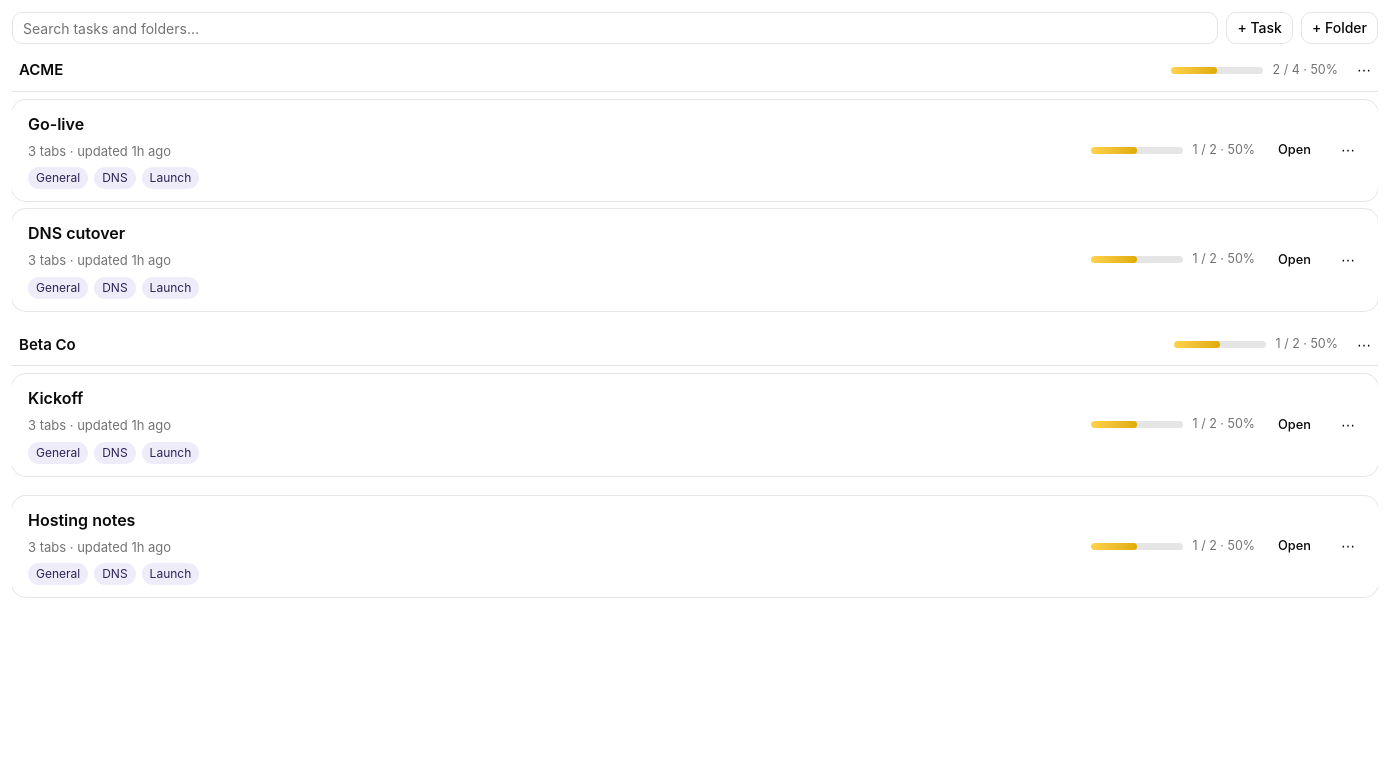
Test: a task’s options › says why a rename was refused, after the field it was typed in has gone
Click the button named "Task options".
click(1348, 150)  # box [1334,136,1362,164]
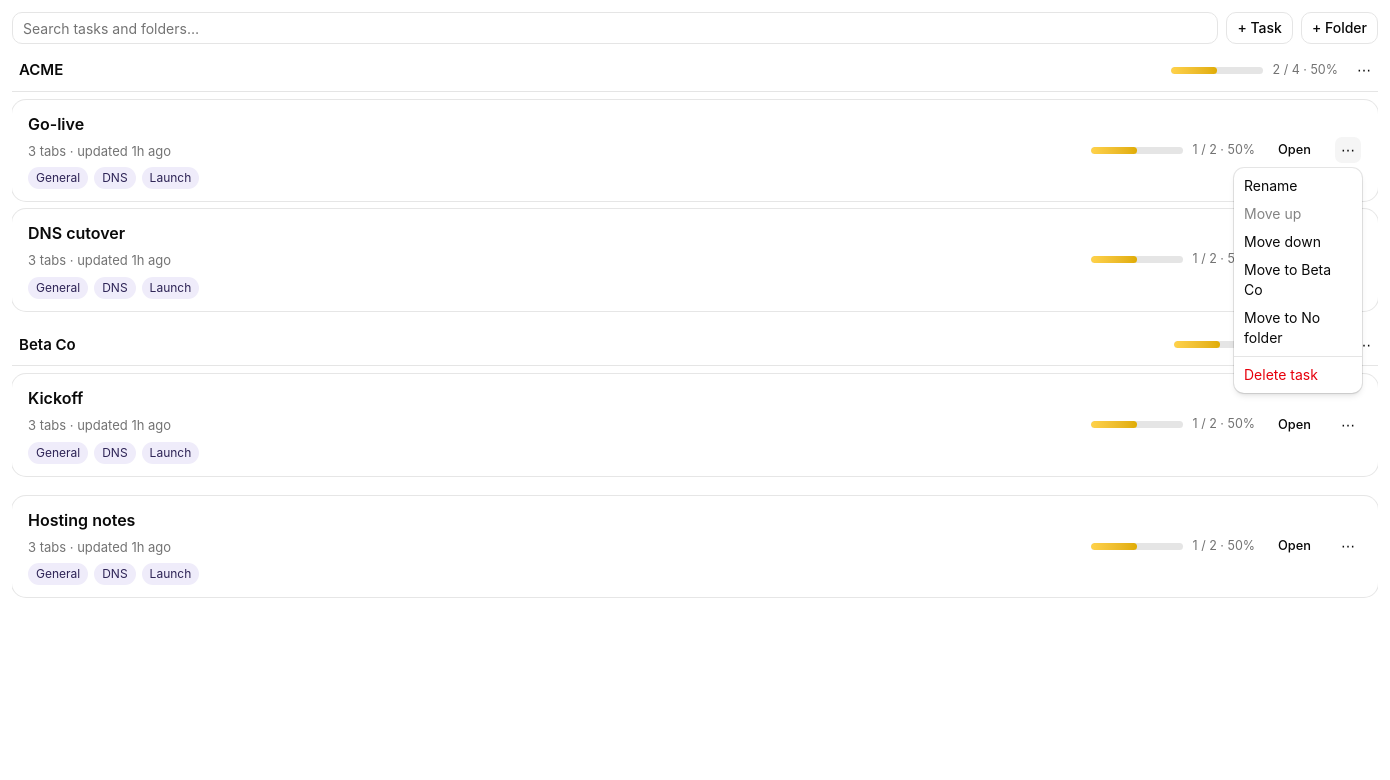
Click the menu item "Rename".
click(1271, 186)  # box [1244,177,1298,194]
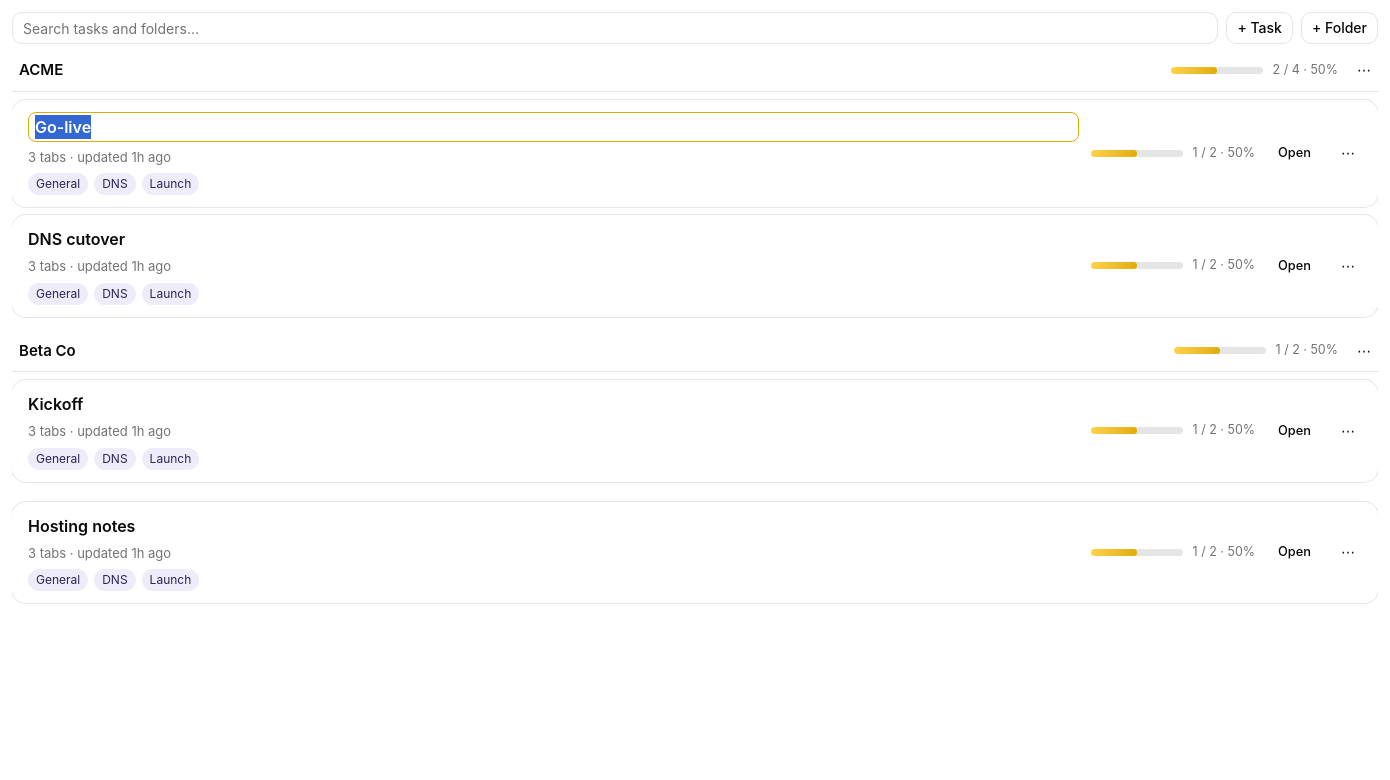
Type " now" into the field named "Task name".
click(553, 126); type(" now")  # box [28,112,1079,142]
Then press Enter
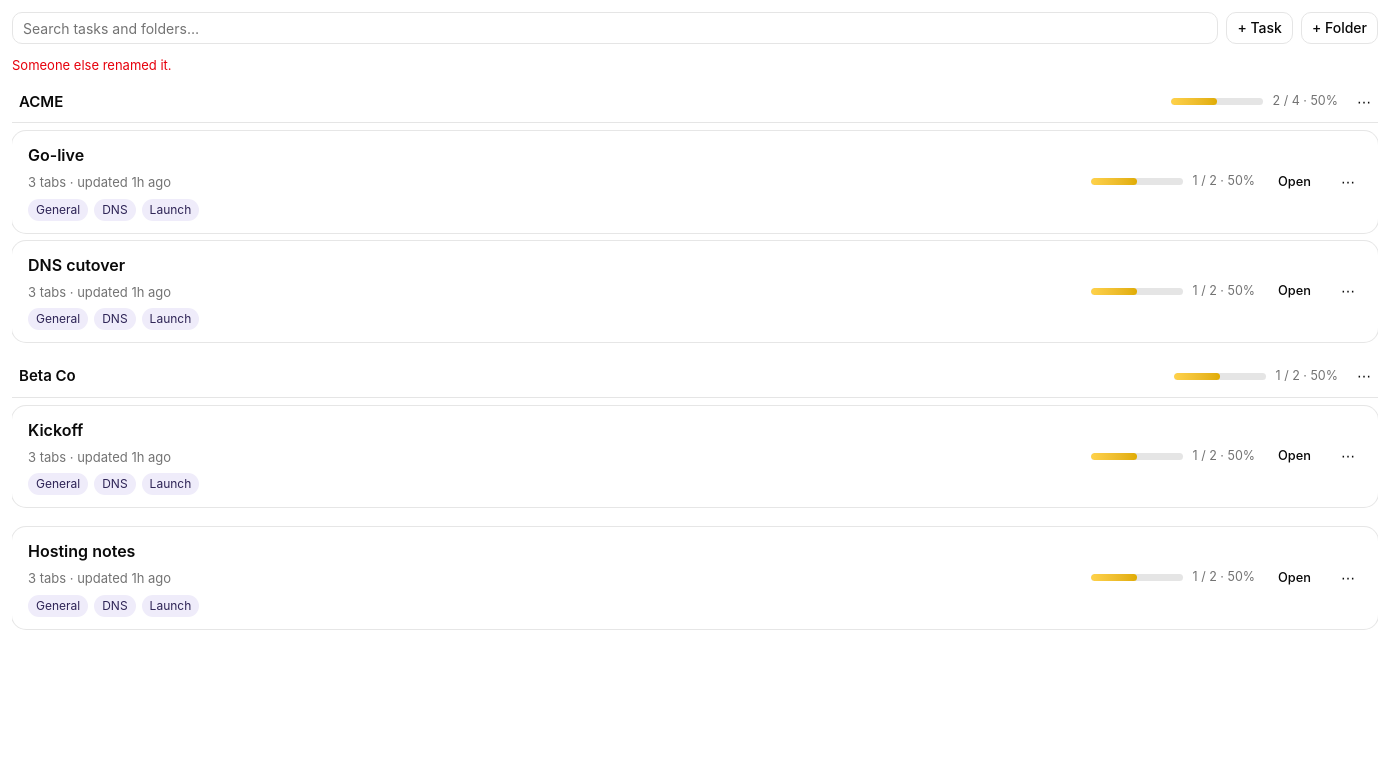
Expected: the message reads "Someone else renamed it.", [12,57,172,73]
Expected: the link "Go-live" is shown, [28,145,84,165]
